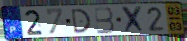2: (24, 9, 44, 36), (146, 6, 166, 32)
7: (46, 8, 65, 36)
B: (93, 6, 116, 35)
D: (70, 8, 93, 35)
X: (121, 5, 147, 35)
